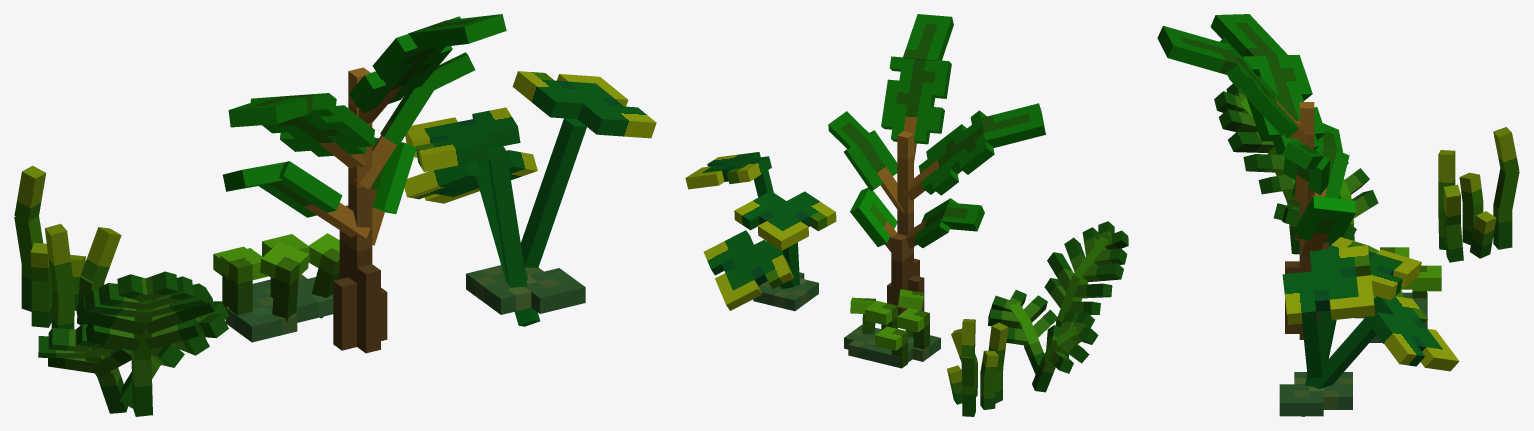
Rendered from item_2x1x1_altbushes01.gltf.
The picture shows the model from 3 angles, left to right: view 1: azimuth 30°, elevation 25°; view 2: azimuth 150°, elevation 25°; view 3: azimuth 270°, elevation 25°; orthographic projection. The views are drawn at different scales.
Visible parts, largest first — view 1: F03-Local, F01-Local, bajiao-Local, bajiao-leaf-3-Local, F02-Local, bajiao-leaf-Local, guibei-Local, wufeng-Local, bajiao-leaf3-Local, f01-Local, bajiao-leaf2-Local, bajiao-leaf5-Local (+29 smaller); view 2: bajiao-leaf-Local, F02-Local, F01-Local, bajiao-leaf-3-Local, bajiao-Local, F03-Local, bajiao-leaf2-Local, bajiao-leaf-b$$(1)-Local, bajiao-leaf-b-Local, wufeng-Local, bajiao-leaf5-Local, guibei-Local (+24 smaller); view 3: F03-Local, F02-Local, bajiao-leaf-3-Local, F01-Local, guibei-Local, bajiao-leaf-Local, bajiao-leaf5-Local, bajiao-leaf-b-Local, bajiao-leaf-b$$(1)-Local, bajiao-Local, bajiao-leaf2-Local, bajiao-leaf3-Local (+19 smaller).
Part boxes in pixels (x1,y1,x2,y2): F03-Local: [512, 71, 656, 268]; F01-Local: [405, 107, 527, 287]; bajiao-Local: [333, 67, 387, 353]; bajiao-leaf-3-Local: [250, 93, 374, 167]; F02-Local: [404, 150, 540, 326]; bajiao-leaf-Local: [349, 16, 460, 123]; guibei-Local: [466, 265, 585, 314]; wufeng-Local: [225, 274, 333, 342]; bajiao-leaf3-Local: [259, 161, 370, 239]; f01-Local: [260, 242, 309, 322]; bajiao-leaf2-Local: [354, 81, 435, 188]; bajiao-leaf5-Local: [372, 137, 416, 245]; bajiao-leaf-Local: [881, 56, 951, 164]; F02-Local: [703, 230, 794, 310]; F01-Local: [734, 191, 836, 287]; bajiao-leaf-3-Local: [903, 110, 994, 200]; bajiao-Local: [887, 131, 924, 315]; F03-Local: [685, 152, 773, 197]; bajiao-leaf2-Local: [844, 130, 912, 212]; bajiao-leaf-b$$(1)-Local: [981, 103, 1045, 147]; bajiao-leaf-b-Local: [903, 14, 953, 60]; wufeng-Local: [844, 324, 940, 367]; bajiao-leaf5-Local: [850, 187, 897, 251]; guibei-Local: [753, 272, 818, 311]; F03-Local: [1282, 245, 1375, 378]; F02-Local: [1301, 296, 1459, 416]; bajiao-leaf-3-Local: [1242, 54, 1325, 154]; F01-Local: [1305, 237, 1421, 386]; guibei-Local: [1279, 372, 1352, 416]; bajiao-leaf-Local: [1219, 38, 1308, 144]; bajiao-leaf5-Local: [1296, 195, 1355, 256]; bajiao-leaf-b-Local: [1157, 25, 1238, 74]; bajiao-leaf-b$$(1)-Local: [1210, 14, 1287, 56]; bajiao-Local: [1285, 102, 1328, 339]; bajiao-leaf2-Local: [1283, 137, 1330, 206]; bajiao-leaf3-Local: [1292, 142, 1349, 241].
Bounding box in the file's own units: 38.24 × 25.66 × 24.75.
63 materials, 63 textured.
